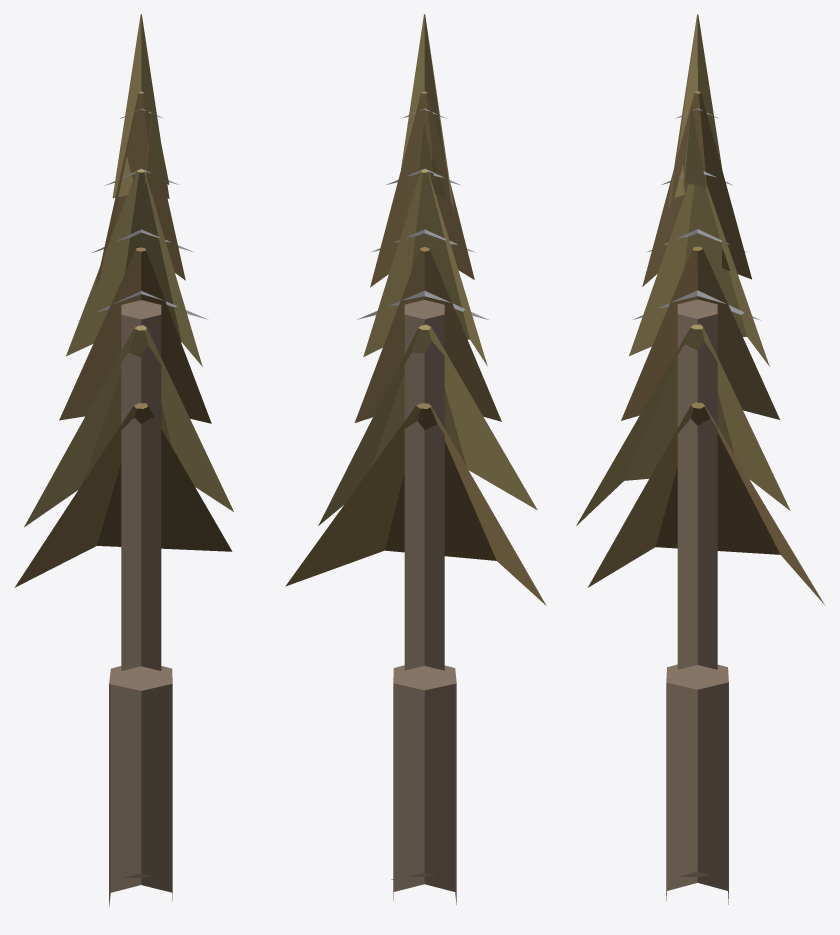
The model's file is shu.luoye__autumn.glb.
3 renders of one model, left to right at view 1: azimuth 30°, elevation 25°; view 2: azimuth 150°, elevation 25°; view 3: azimuth 270°, elevation 25°, orthographic.
Parts seen in each view (by area): view 1: shu.luoye__autumn; view 2: shu.luoye__autumn; view 3: shu.luoye__autumn.
Part boxes in pixels (box(x1,y1,x2,y2)): shu.luoye__autumn: box(14, 14, 233, 906); shu.luoye__autumn: box(285, 14, 546, 904); shu.luoye__autumn: box(576, 14, 824, 904).
Bounding box in the file's own units: 4.86 × 18.97 × 4.86.
